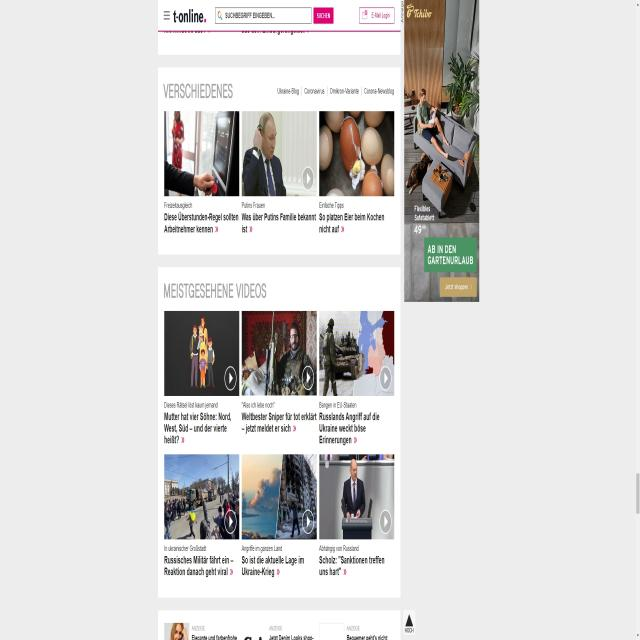search: (213, 4, 335, 29)
tab-bar: (278, 82, 396, 100)
